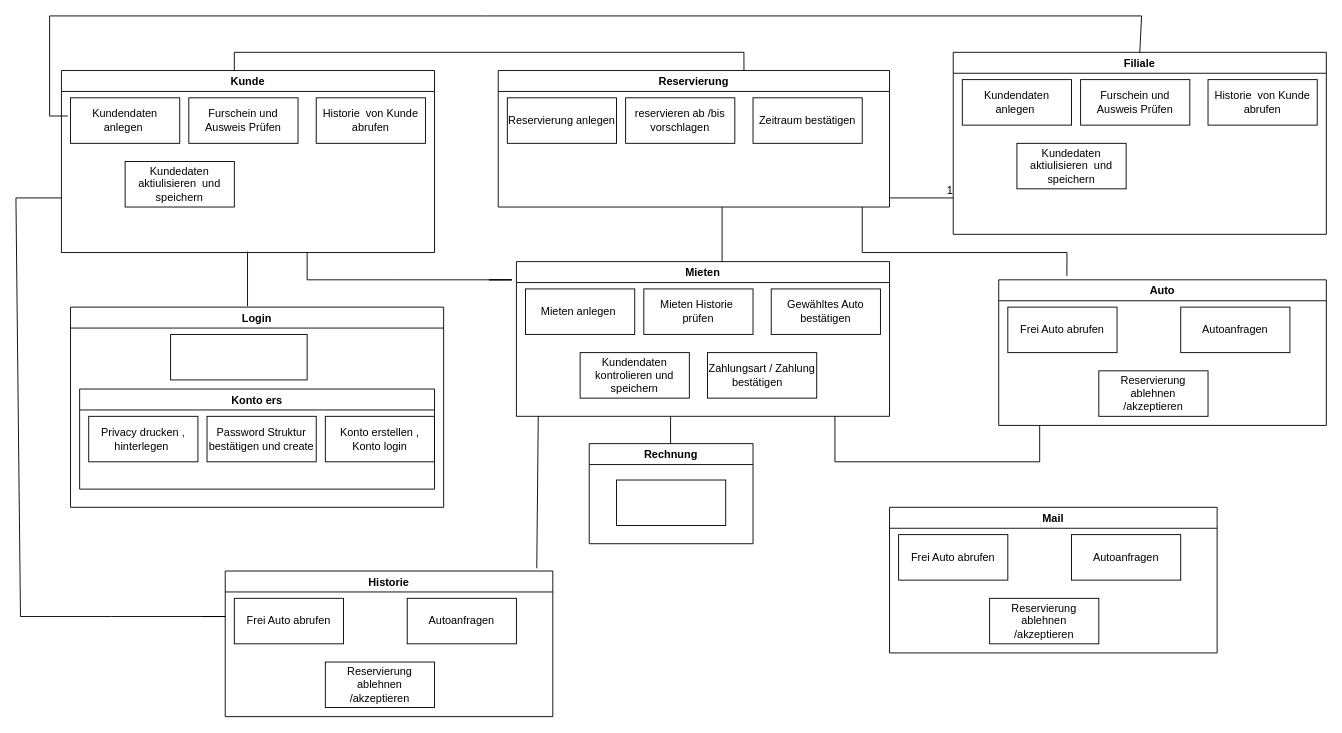
The diagram is 1342 pixels wide and 733 high, and some of its shapes have lost their labels. The centre of each missing label's shape, as x and y in pixels:
"Authentication" belongs at point (238, 357).
"Rechnung Raus" belongs at point (671, 502).
